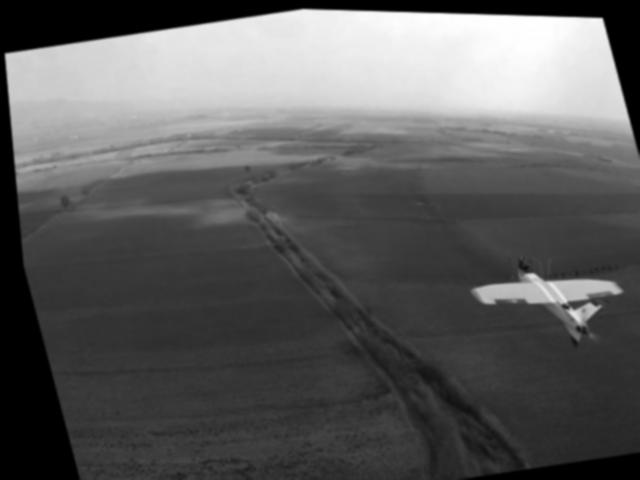hedef: (442, 211, 638, 374)
